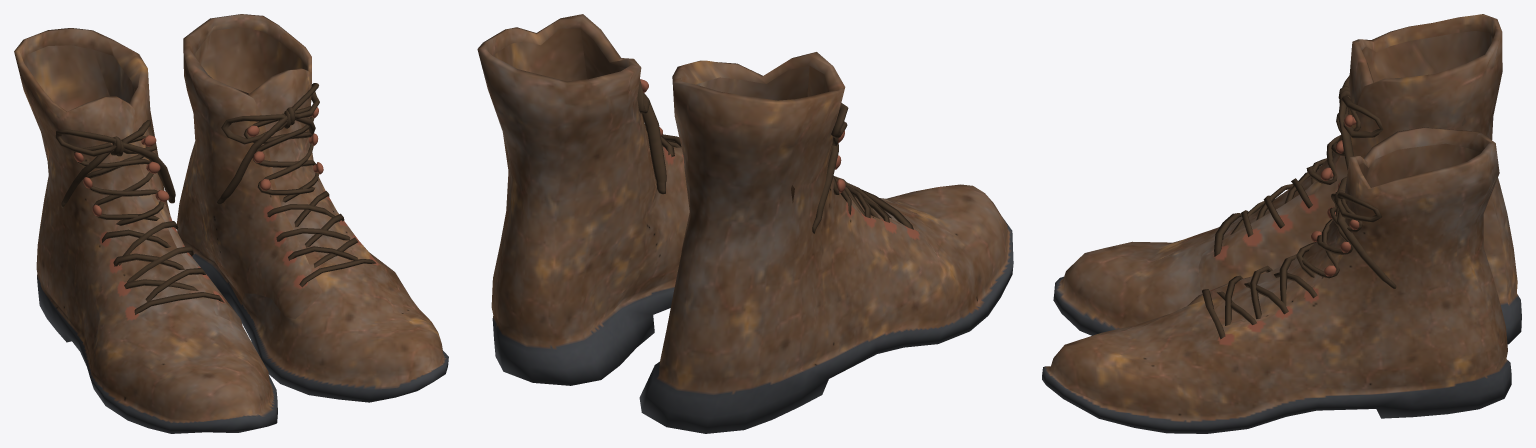
The model's file is Botas.FBX.
The picture shows the model from 3 angles, left to right: view 1: azimuth 30°, elevation 25°; view 2: azimuth 150°, elevation 25°; view 3: azimuth 270°, elevation 25°; orthographic projection. The views are drawn at different scales.
Visible parts, largest first — view 1: Shoes; view 2: Shoes; view 3: Shoes.
Boxes of the visible parts, bbox=[...] form: Shoes: bbox=[14, 14, 448, 433]; Shoes: bbox=[477, 14, 1013, 433]; Shoes: bbox=[1042, 14, 1521, 433].
Bounding box in the file's own units: 0.2353 × 0.1975 × 0.2945.
1 material, 1 textured.
